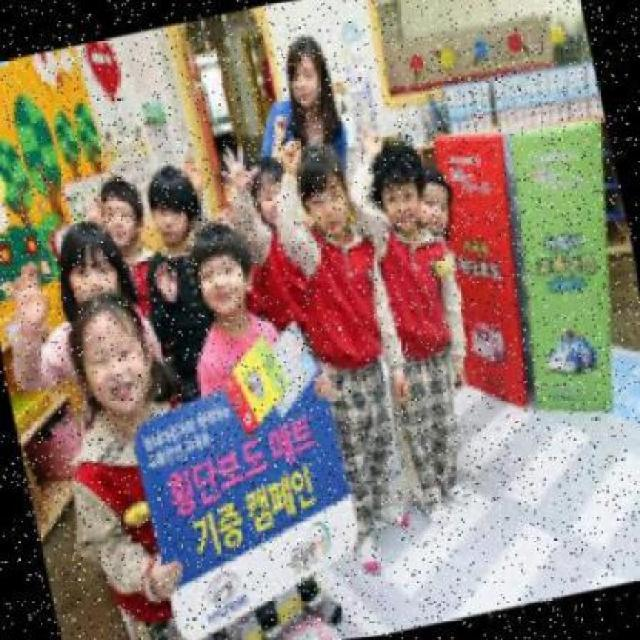sem_oculos: (58, 252, 123, 286), (74, 344, 156, 368), (180, 254, 248, 280), (375, 178, 421, 209), (97, 198, 141, 226), (304, 190, 350, 210), (148, 204, 191, 222), (289, 66, 323, 82), (426, 193, 451, 214)
